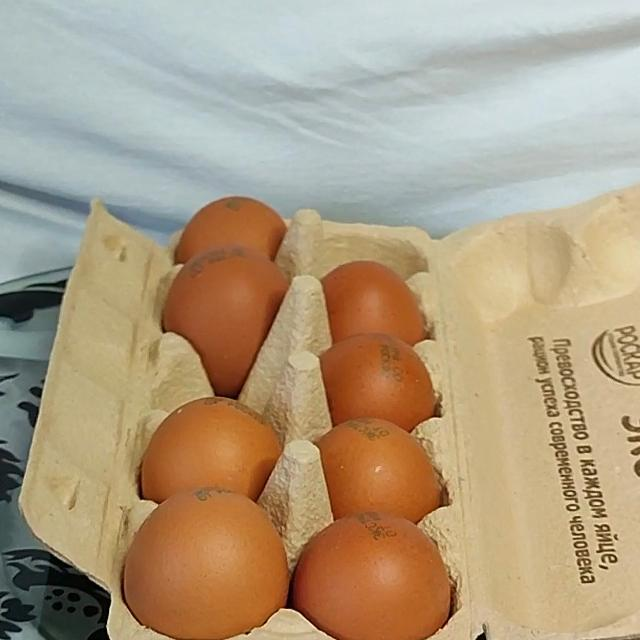egg: (23, 143, 162, 249)
